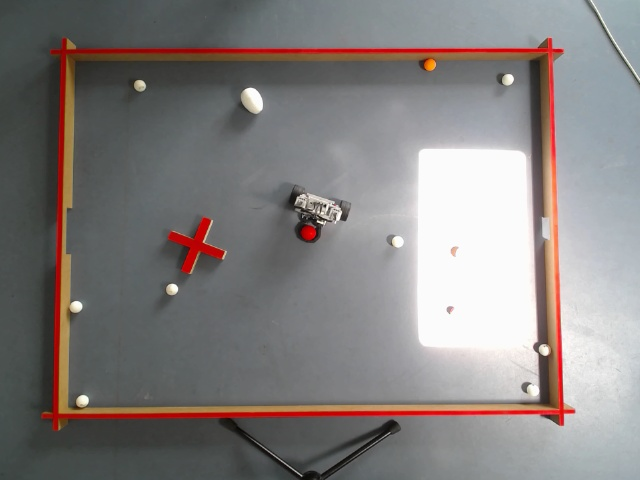big_goal: (56, 206, 70, 255)
cross: (168, 216, 226, 273)
egg: (240, 87, 263, 114)
orange: (422, 59, 436, 69)
robot: (286, 183, 351, 243)
small_goal: (540, 215, 558, 239)
wall: (40, 396, 574, 419), (534, 36, 564, 426), (49, 45, 562, 66), (50, 36, 75, 432)
white: (537, 341, 552, 356), (68, 300, 84, 312), (134, 78, 146, 93), (166, 282, 178, 296), (524, 381, 538, 393), (75, 393, 88, 405), (391, 234, 402, 248), (501, 74, 512, 84)
